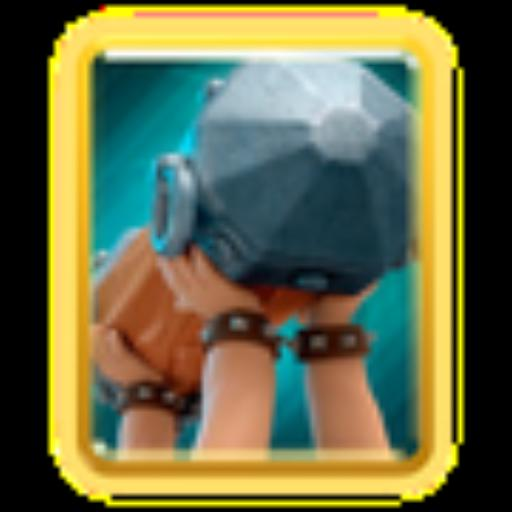battle-ram: (72, 52, 424, 466)
